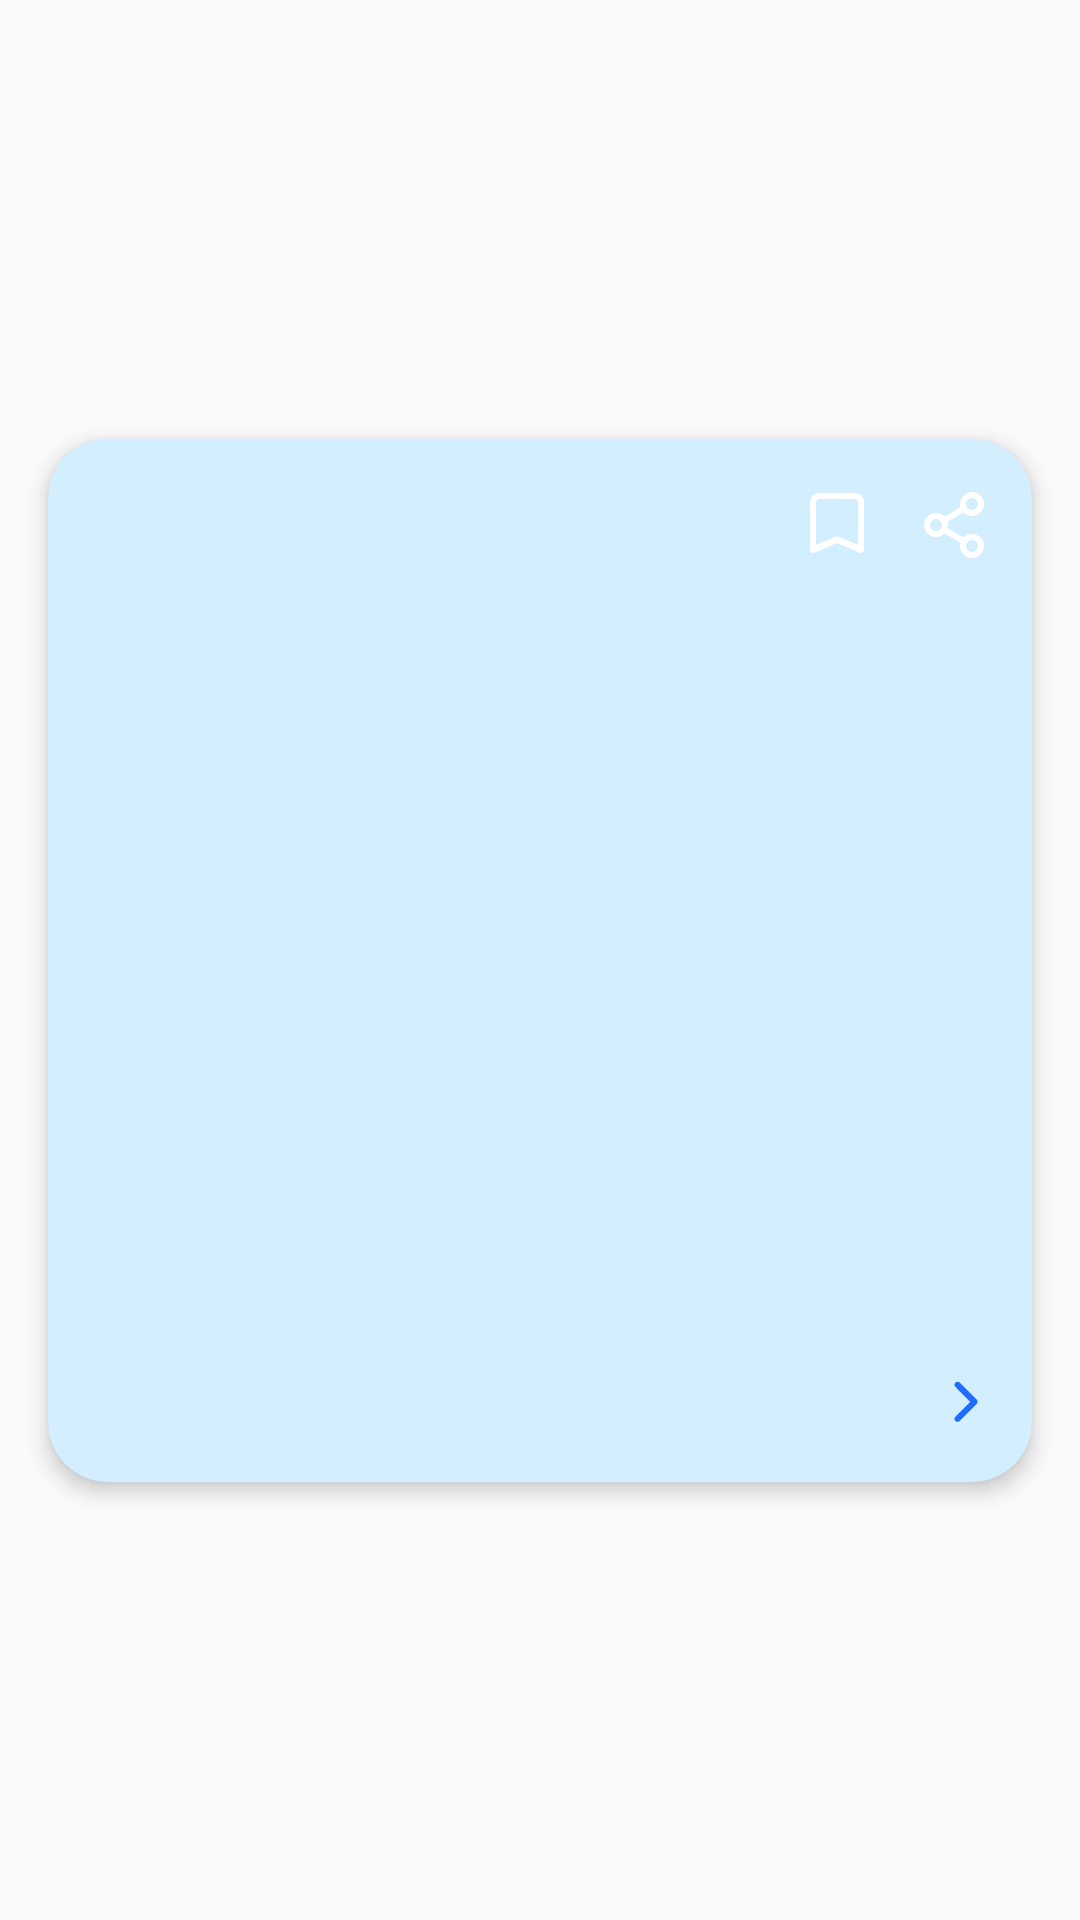

Icon click points for this 1080 × 1920 phone screenshot, format point (x, y):
arrow: point (966, 1401)
bookmarks: point (837, 523)
share: point (954, 525)
